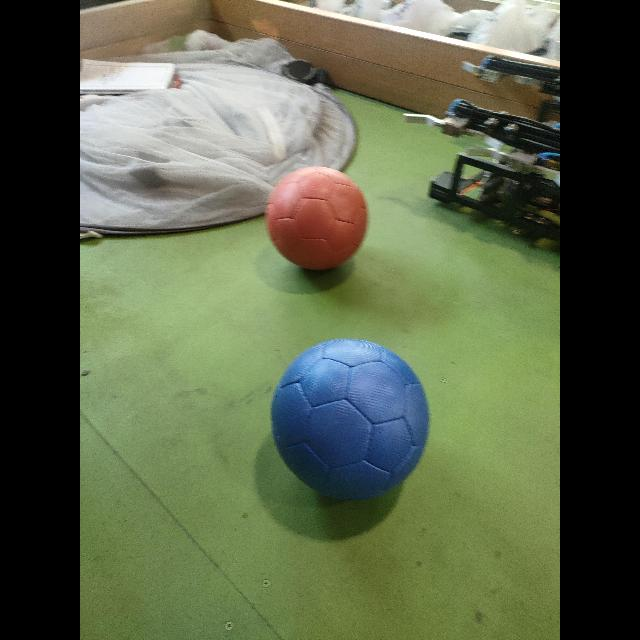B: (270, 339, 430, 504)
R: (265, 166, 370, 274)
